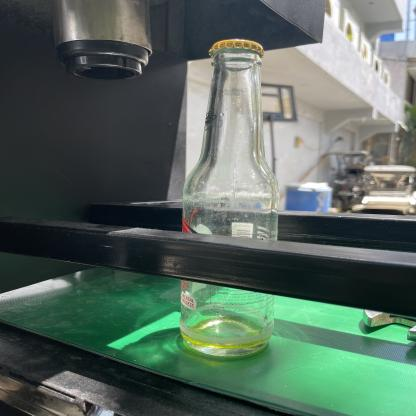Can: (174, 37, 281, 361)
